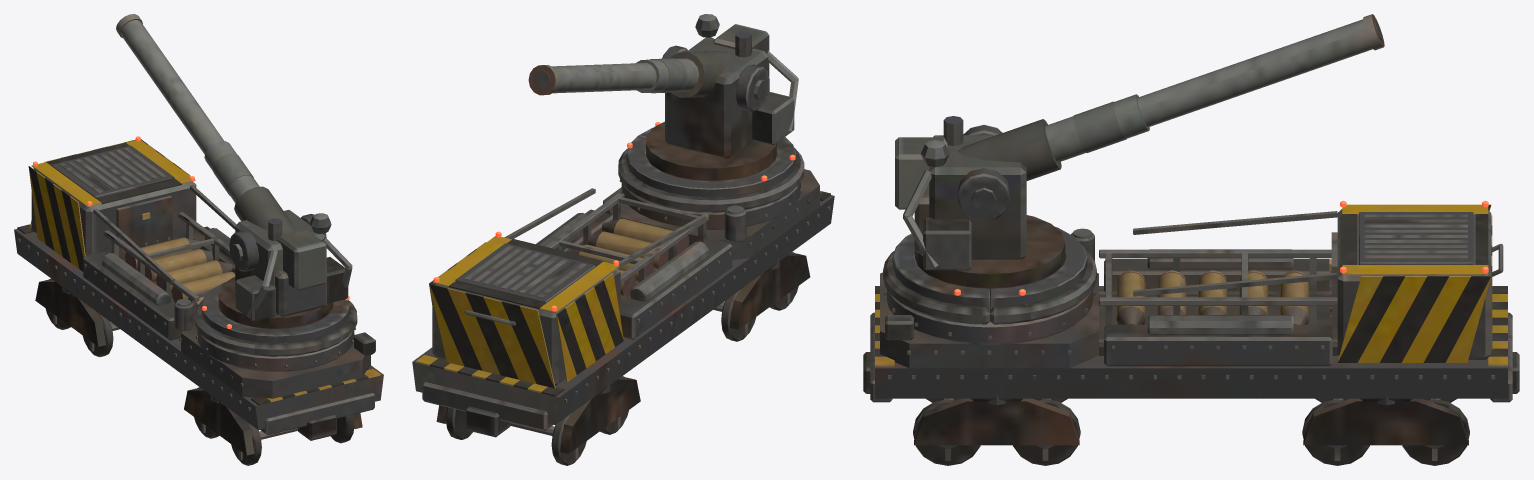
Rendered from artillery-wagon.glb.
3 renders of one model, left to right at view 1: azimuth 30°, elevation 25°; view 2: azimuth 150°, elevation 25°; view 3: azimuth 270°, elevation 25°, orthographic. The views are drawn at different scales.
Visible parts, largest first — view 1: body, anim_turret_head, anim_wheel_rail, anim_wheel_rail.002; view 2: body, anim_turret_head, anim_wheel_rail.003, anim_wheel_rail.001; view 3: body, anim_turret_head, anim_wheel_rail.001, anim_wheel_rail.002, anim_wheel_rail, anim_wheel_rail.003.
Boxes of the visible parts, x1,y1,x2,y2 form: body: [14, 136, 383, 455]; anim_turret_head: [116, 14, 352, 343]; anim_wheel_rail: [231, 414, 354, 465]; anim_wheel_rail.002: [83, 311, 119, 357]; body: [412, 147, 834, 453]; anim_turret_head: [528, 14, 798, 197]; anim_wheel_rail.003: [446, 407, 586, 465]; anim_wheel_rail.001: [713, 289, 756, 341]; body: [863, 200, 1519, 445]; anim_turret_head: [892, 14, 1384, 307]; anim_wheel_rail.001: [1013, 398, 1080, 465]; anim_wheel_rail.002: [1302, 398, 1369, 465]; anim_wheel_rail: [913, 398, 980, 465]; anim_wheel_rail.003: [1402, 398, 1469, 465].
Size of the model in its own units: 2.2 by 4.75 by 6.74.
2 materials, 2 textured.
